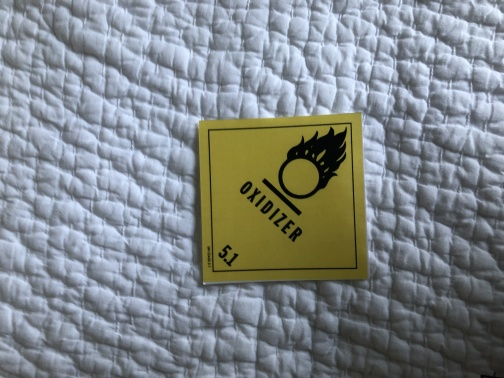Oxidizer: (197, 113, 370, 283)
